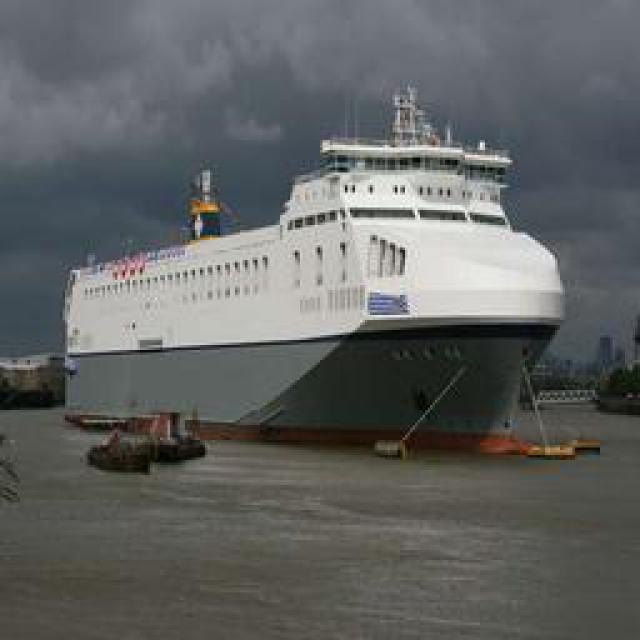Ship: (55, 87, 575, 447)
